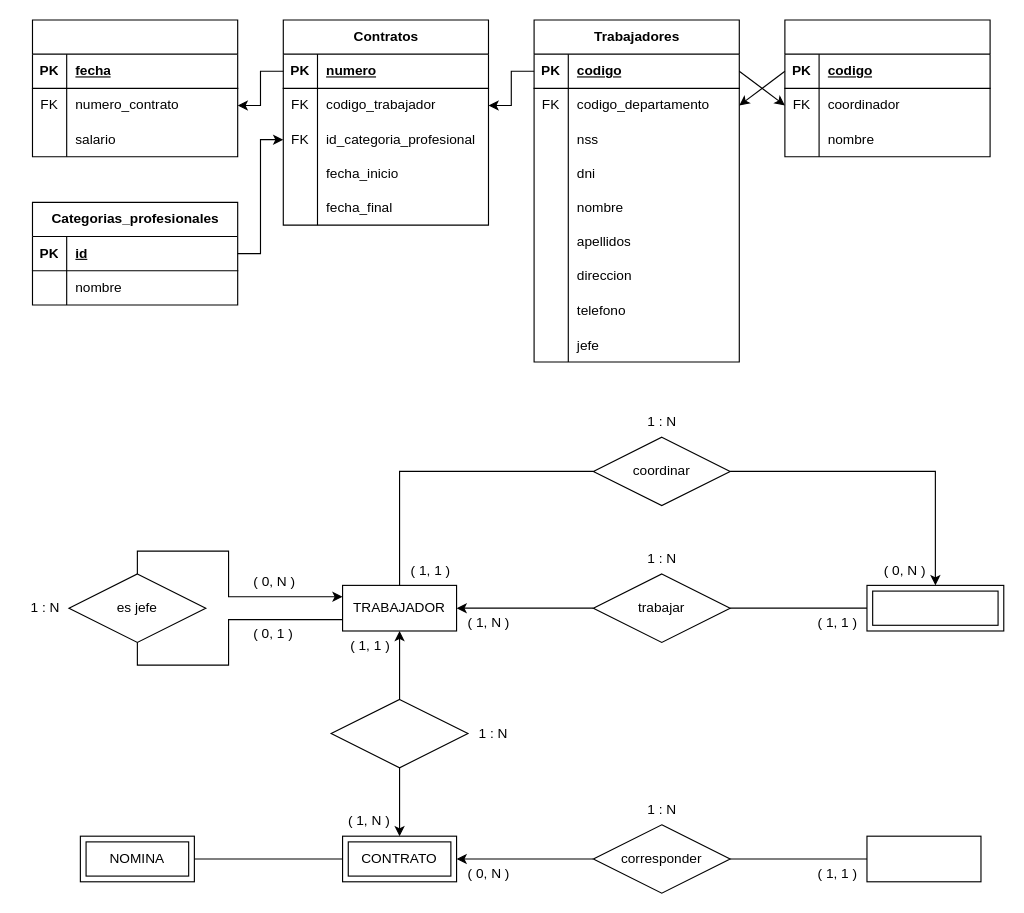
Image size: 1024x913. Some labels were removed from this diagram. The shapes that lost their labels are listed below. From the top down, each one's box as (x1, y1, x2, y2) in pixels, then its label:
(31, 19, 238, 157): Nominas
(784, 19, 990, 157): Departamentos
(866, 584, 1004, 631): DEPARTAMENTO
(330, 698, 468, 768): recibir
(866, 835, 981, 882): CATEGORIA PROFESIONAL
